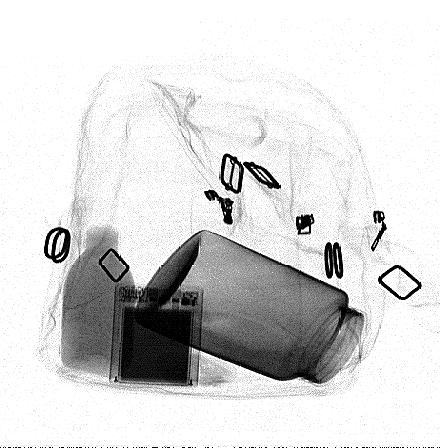Powerbank: (108, 280, 201, 388)
